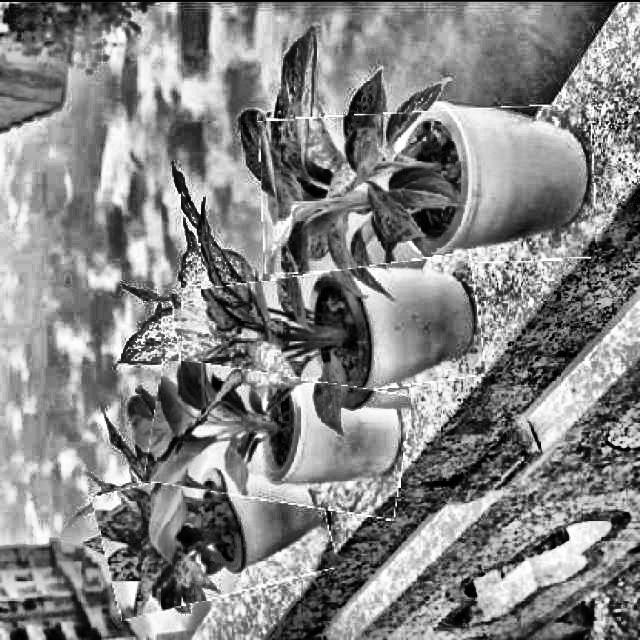plants: (260, 105, 596, 268), (175, 261, 483, 404), (148, 366, 408, 509), (98, 456, 332, 606)
